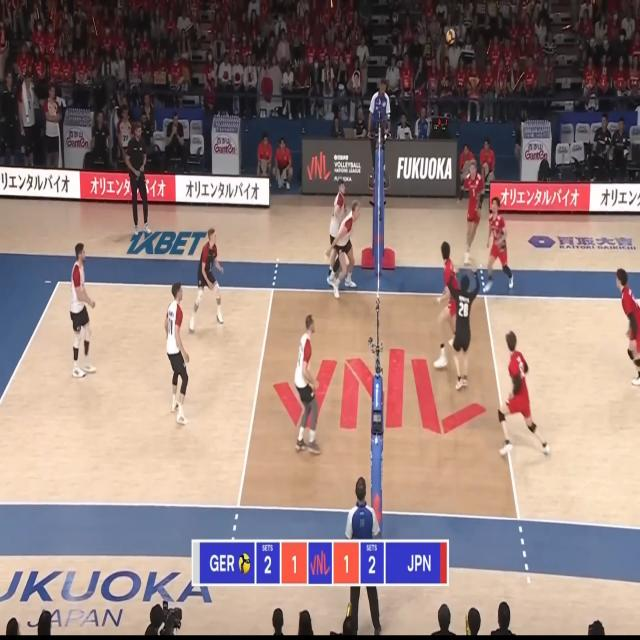ball: (446, 28, 456, 44)
